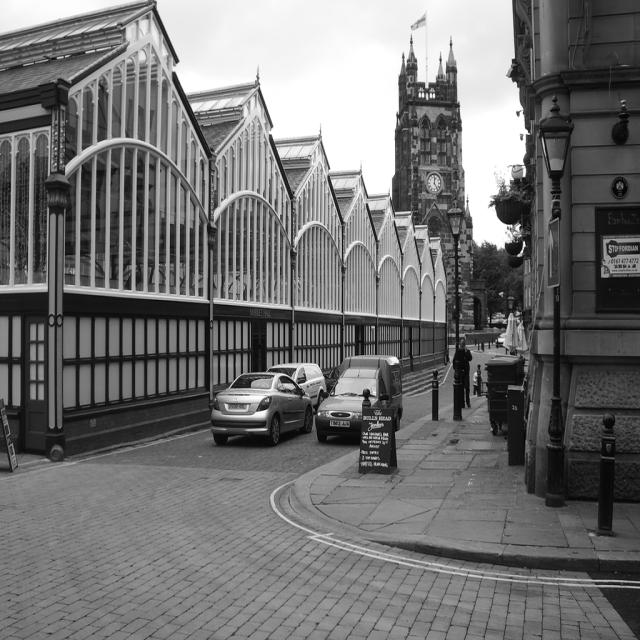car: (208, 369, 311, 441)
